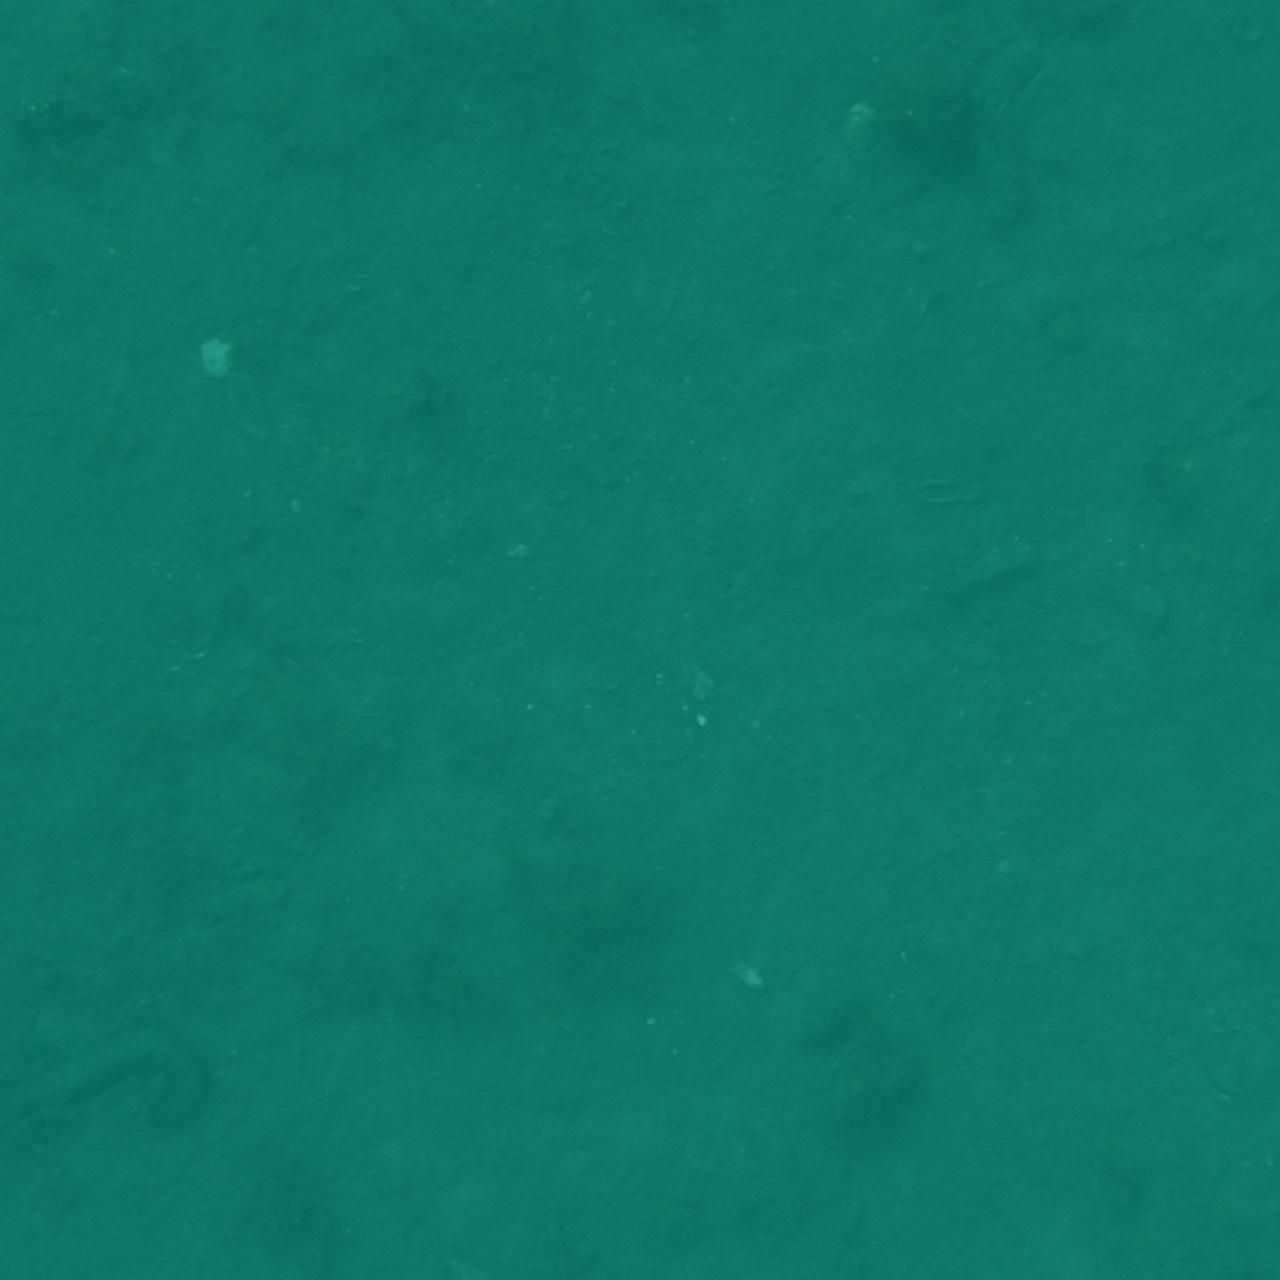Holothuria tubulosa: (944, 18, 1070, 265), (0, 1024, 225, 1144), (338, 0, 563, 110), (1077, 721, 1280, 843), (1164, 1014, 1280, 1221), (1184, 114, 1280, 356), (1058, 1178, 1280, 1280), (1148, 497, 1280, 654), (0, 787, 98, 985), (1014, 0, 1235, 84), (438, 1170, 593, 1280), (0, 0, 113, 148), (0, 1169, 139, 1280), (790, 1216, 1016, 1280), (307, 0, 497, 75), (0, 509, 63, 729), (0, 123, 80, 292), (0, 41, 56, 273), (0, 0, 120, 103), (441, 1173, 553, 1280), (0, 0, 163, 69), (0, 0, 96, 113), (0, 0, 129, 70), (1175, 0, 1280, 79), (0, 1186, 87, 1280), (0, 1211, 109, 1280), (0, 0, 56, 103), (1221, 1186, 1280, 1280)
Rifiuto: (0, 1179, 132, 1280)
